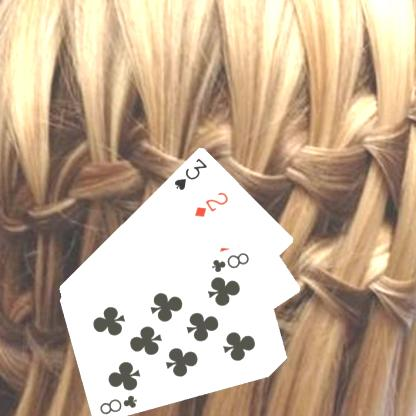2D: (192, 188, 230, 218)
3S: (172, 155, 208, 192)
8C: (208, 249, 251, 274), (97, 392, 139, 416)
